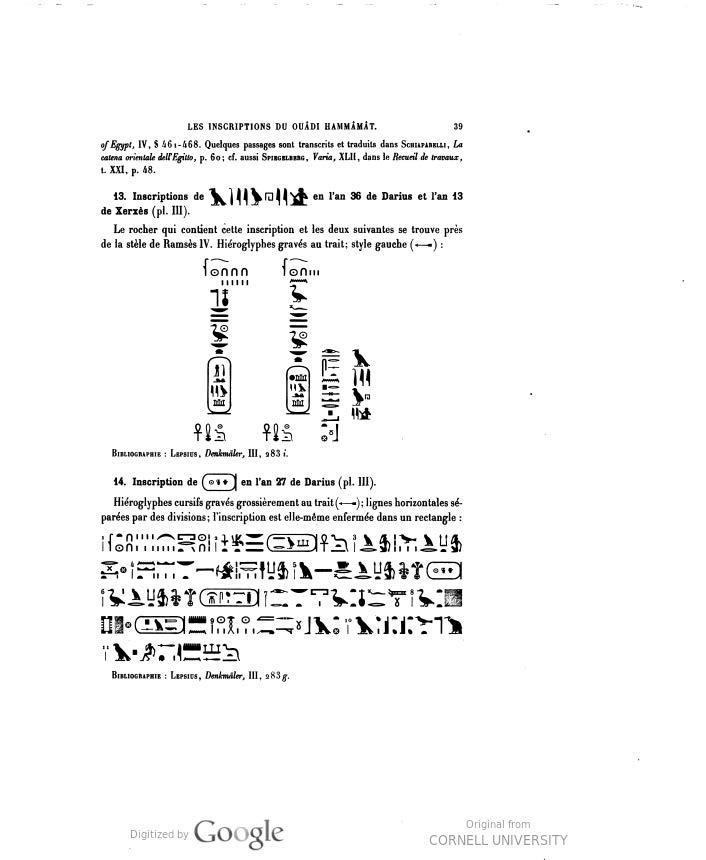circle: (195, 578, 268, 612), (187, 458, 241, 499), (203, 354, 237, 419), (278, 360, 313, 423), (130, 612, 193, 642), (266, 529, 321, 559), (424, 556, 468, 584)
